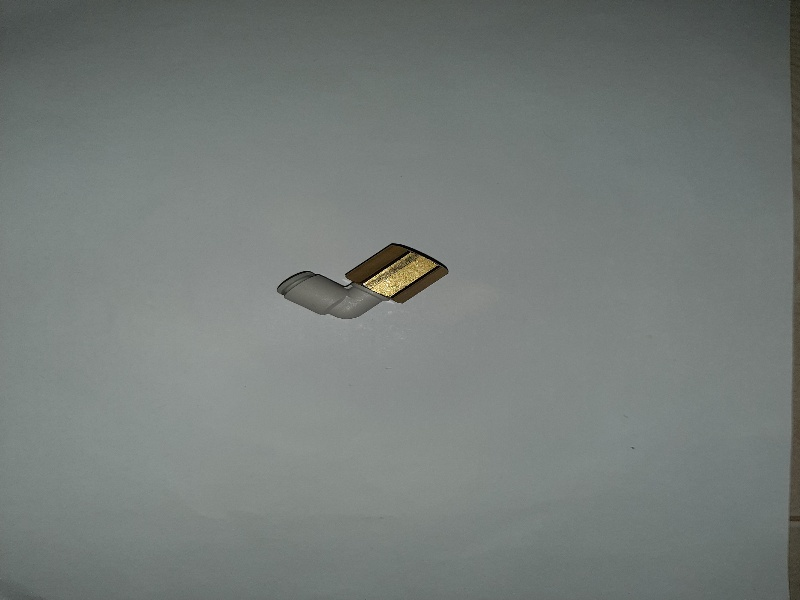Connector: (276, 238, 449, 325)
